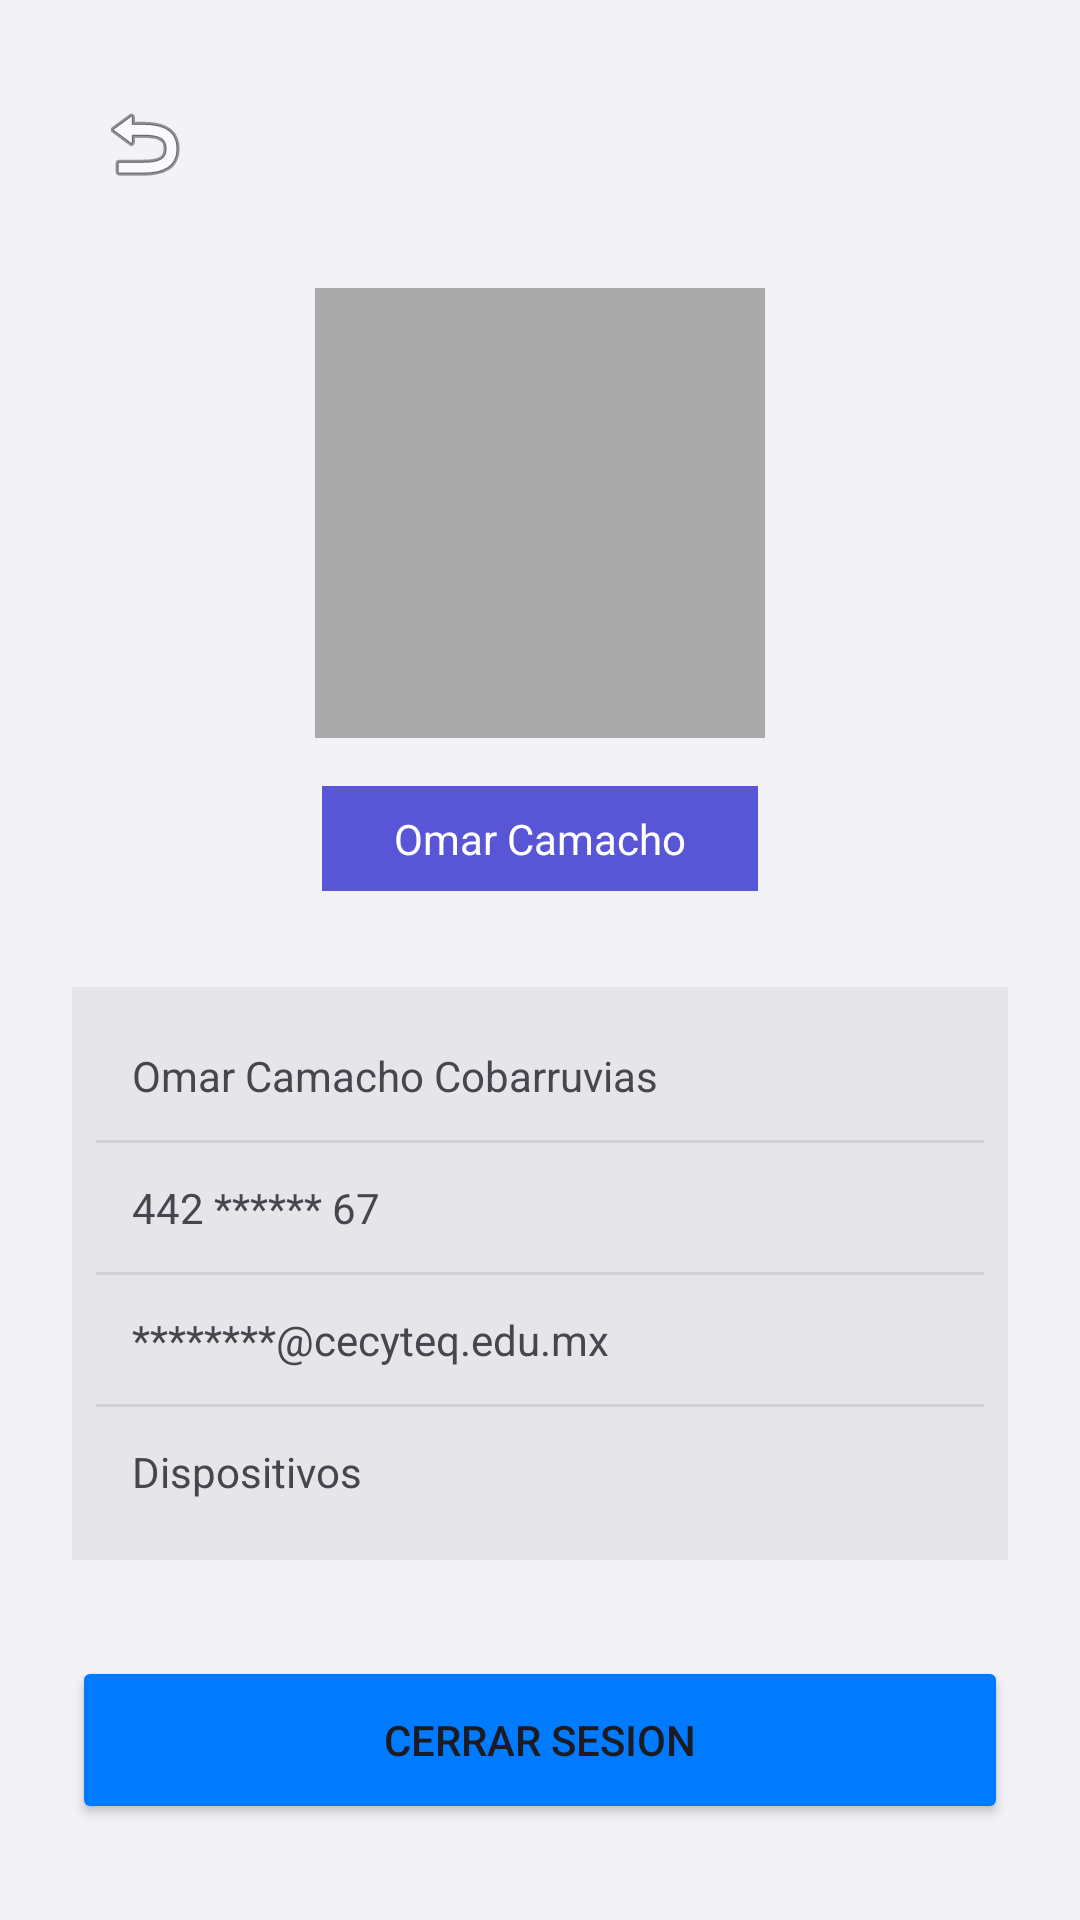

Named icons in this screenshot (1080px x 1920px) and their bounding boxes, (x1, y1, x2, y2):
revert: (111, 113, 180, 176)
